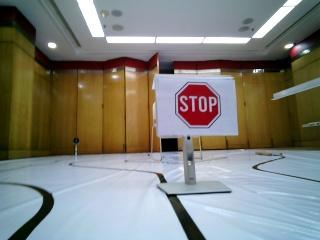stop: (163, 82, 228, 134)
